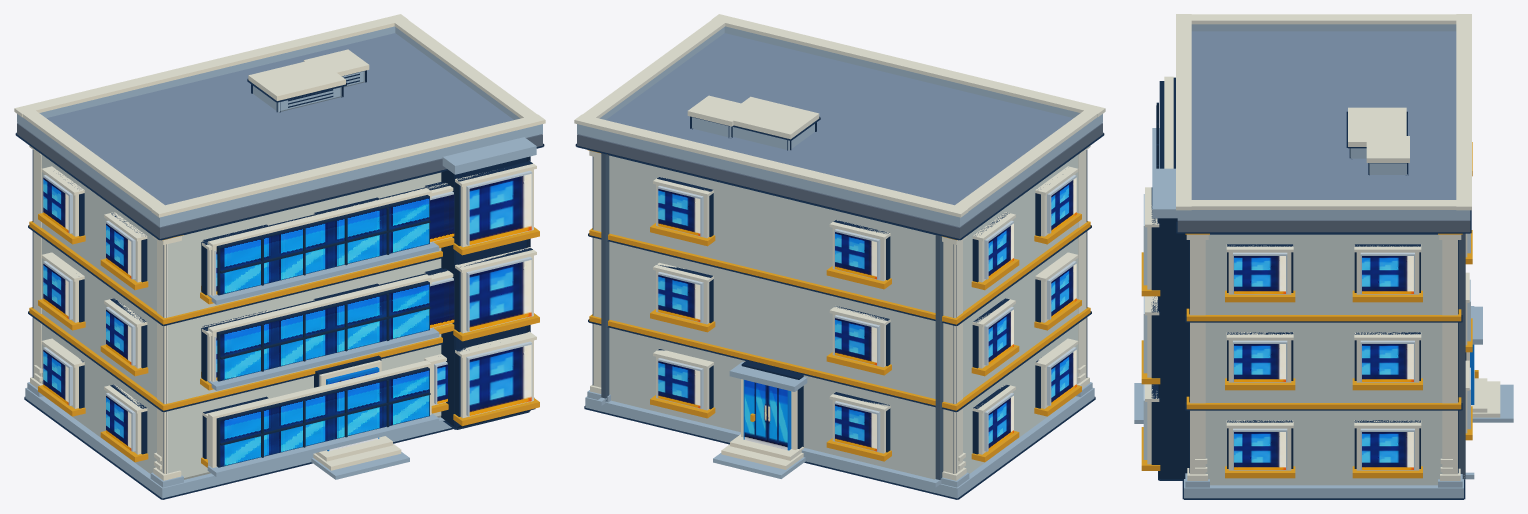
3 views of the same model, side by side, from view 1: azimuth 30°, elevation 25°; view 2: azimuth 150°, elevation 25°; view 3: azimuth 270°, elevation 25° (orthographic). The views are drawn at different scales.
Visible parts, largest first — view 1: B06-05 横向长窗办公楼; view 2: B06-05 横向长窗办公楼; view 3: B06-05 横向长窗办公楼.
Part boxes in pixels (x1,y1,x2,y2): B06-05 横向长窗办公楼: (14,14,545,499); B06-05 横向长窗办公楼: (574,14,1105,499); B06-05 横向长窗办公楼: (1134,14,1513,499).
Size of the model in its own units: 7.92 by 5.81 by 6.58.
Materials: 2 (1 with a texture image).
